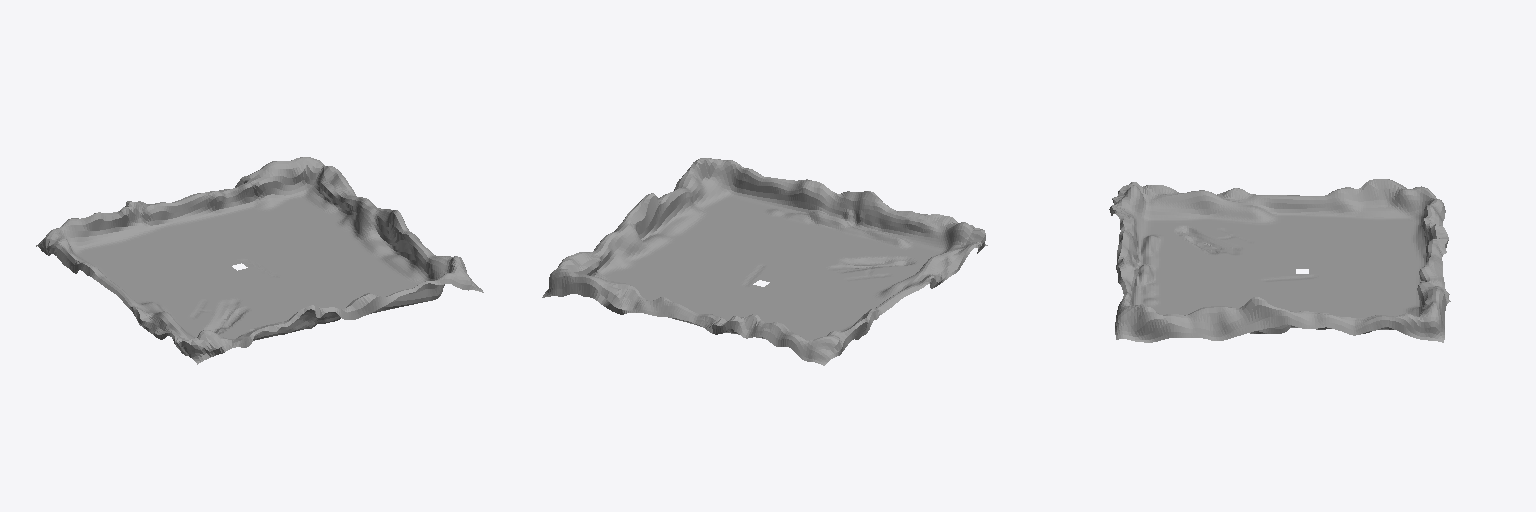
The model's file is terrain_test4.obj.
The picture shows the model from 3 angles: view 1: azimuth 30°, elevation 25°; view 2: azimuth 150°, elevation 25°; view 3: azimuth 270°, elevation 25°; orthographic projection.
Visible parts, largest first — view 1: Plane_Plane.002; view 2: Plane_Plane.002; view 3: Plane_Plane.002.
Part boxes in pixels (x1,y1,x2,y2): Plane_Plane.002: (36,157,483,364); Plane_Plane.002: (542,158,987,365); Plane_Plane.002: (1109,179,1450,342).
Bounding box in the file's own units: 16.24 × 2.33 × 16.33.